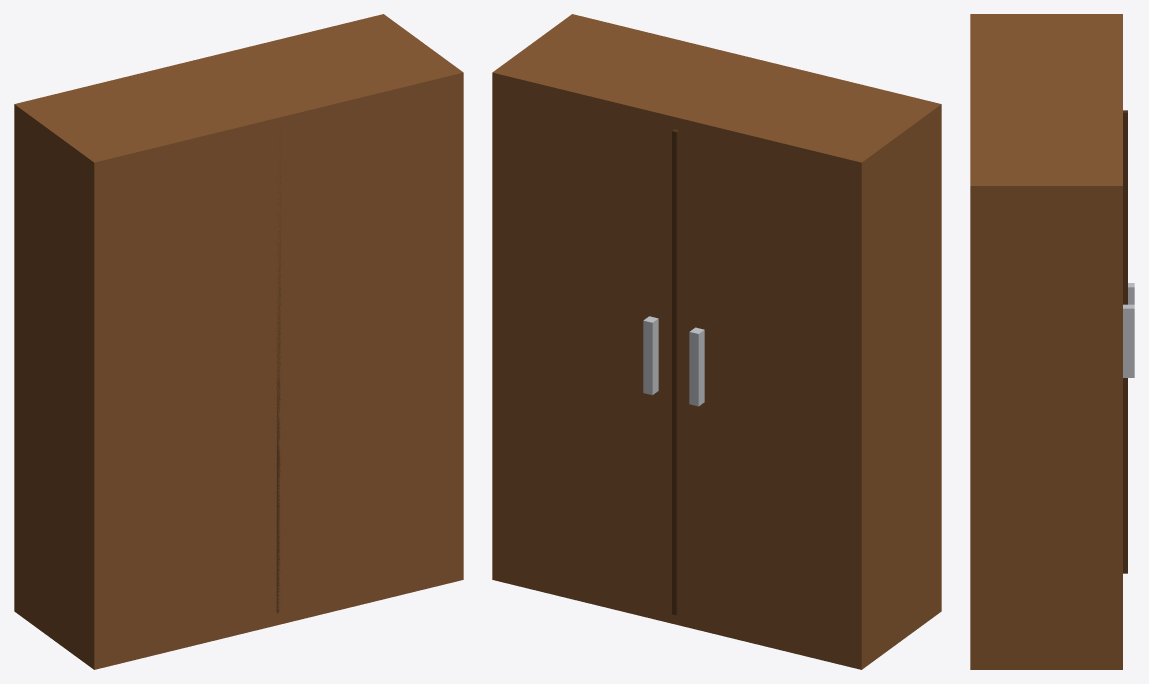
The model's file is int_wardrobe.glb.
The picture shows the model from 3 angles, left to right: view 1: azimuth 30°, elevation 25°; view 2: azimuth 150°, elevation 25°; view 3: azimuth 270°, elevation 25°; orthographic projection. The views are drawn at different scales.
Visible parts, largest first — view 1: int_wardrobe__mesh; view 2: int_wardrobe__mesh; view 3: int_wardrobe__mesh.
Part boxes in pixels (<box>): int_wardrobe__mesh: <box>14,14,463,669</box>; int_wardrobe__mesh: <box>492,14,941,669</box>; int_wardrobe__mesh: <box>970,14,1134,669</box>.
Bounding box in the file's own units: 1.6 × 2.1 × 0.645.
